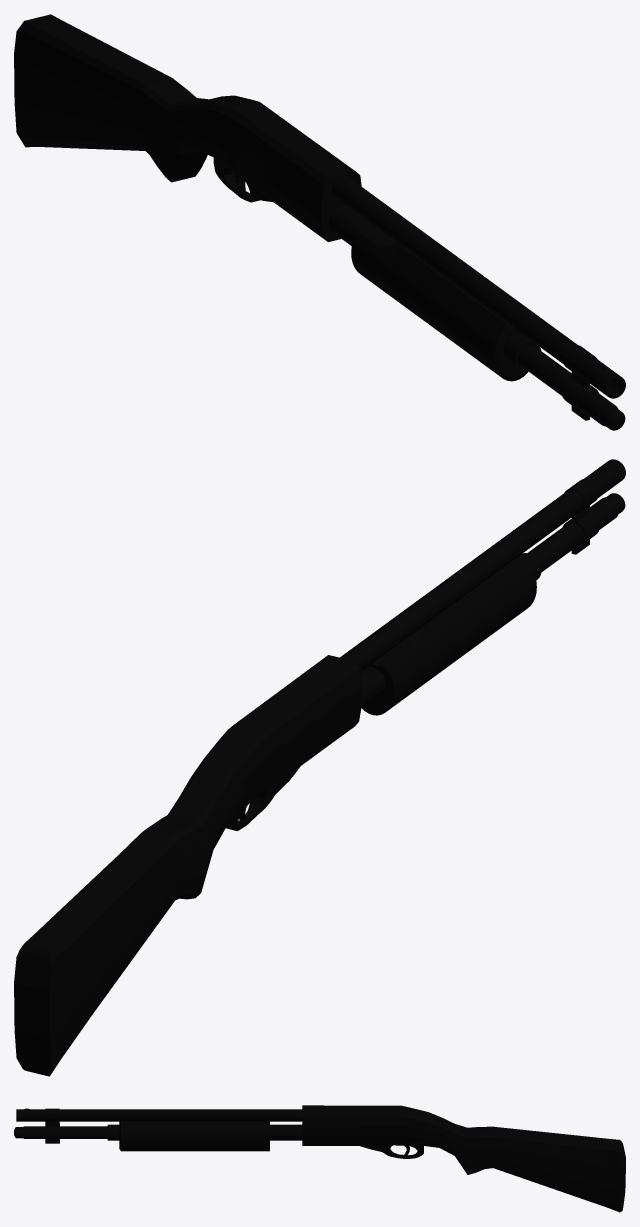
File: Remington 870.fbx
3 views of the same model, one above another, from view 1: azimuth 30°, elevation 25°; view 2: azimuth 150°, elevation 25°; view 3: azimuth 270°, elevation 25° (orthographic). The views are drawn at different scales.
Parts seen in each view (by area): view 1: Remington 870; view 2: Remington 870; view 3: Remington 870.
Part boxes in pixels (<box>): Remington 870: <box>14,14,625,430</box>; Remington 870: <box>14,459,625,1076</box>; Remington 870: <box>14,1105,625,1212</box>.
Bounding box in the file's own units: 0.0521 × 0.224 × 1.23.
